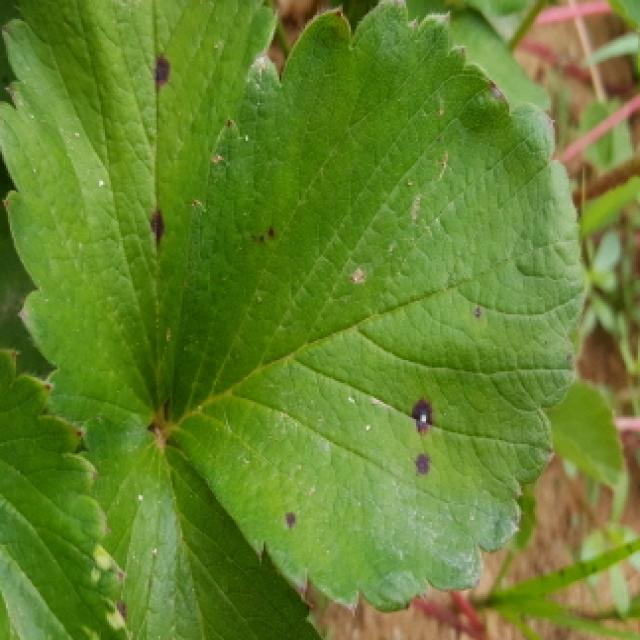Leaf Spot: (165, 0, 586, 613), (0, 0, 282, 428)
